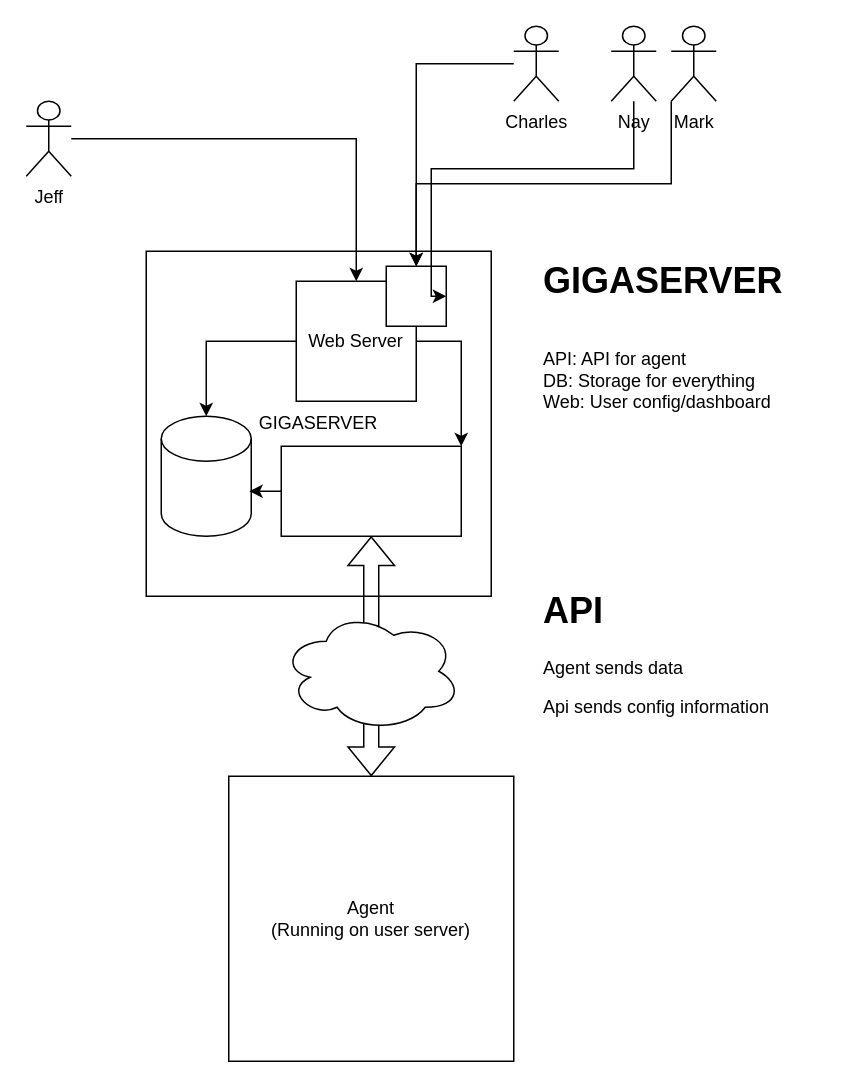
The diagram is 848 pixels wide and 1088 high, and some of its shapes have lost their labels. Here are the shapes that lost their labels. From the top down, the centre of each, then its label:
At point 415,295: "admin panel".
At point 205,475: "DB".
At point 370,490: "API".
At point 370,670: "Internet (Https)".
